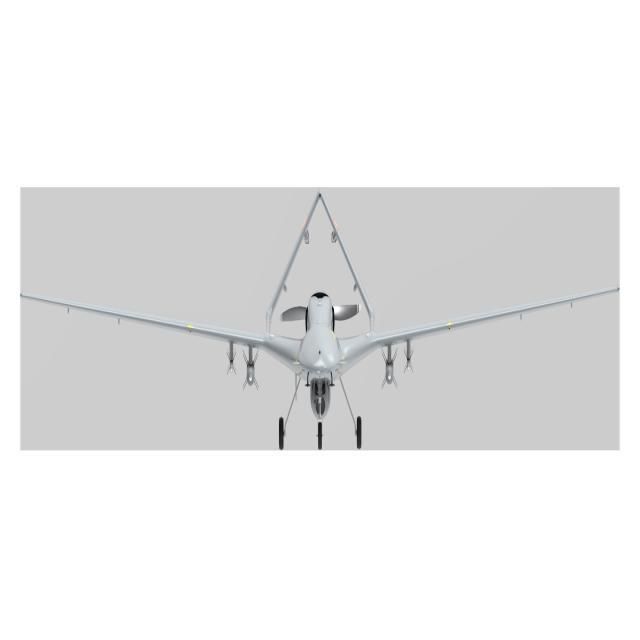iha: (9, 208, 622, 431)
